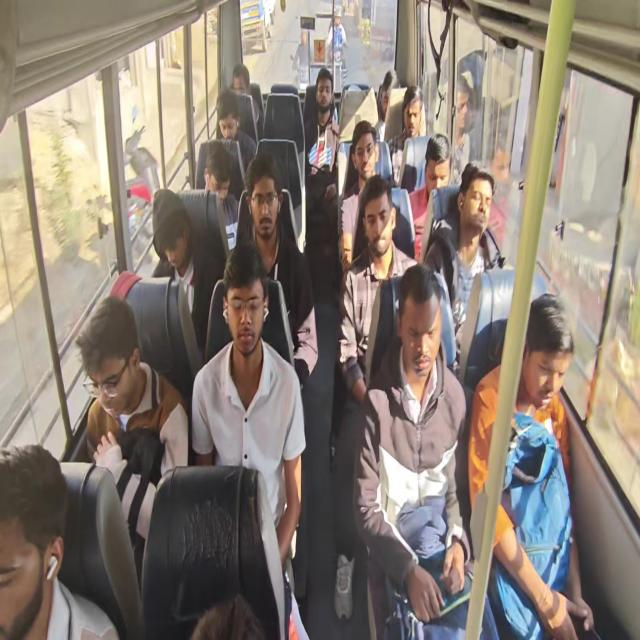person: (0, 447, 57, 639), (81, 300, 148, 419), (523, 294, 574, 413), (219, 262, 271, 354), (402, 264, 442, 376), (151, 190, 188, 276), (460, 166, 496, 236), (360, 185, 392, 256), (248, 172, 280, 240), (423, 133, 451, 200), (203, 148, 233, 210), (396, 91, 426, 141), (213, 91, 240, 146), (354, 122, 380, 176), (378, 67, 401, 120), (314, 72, 332, 111), (231, 64, 252, 97)
